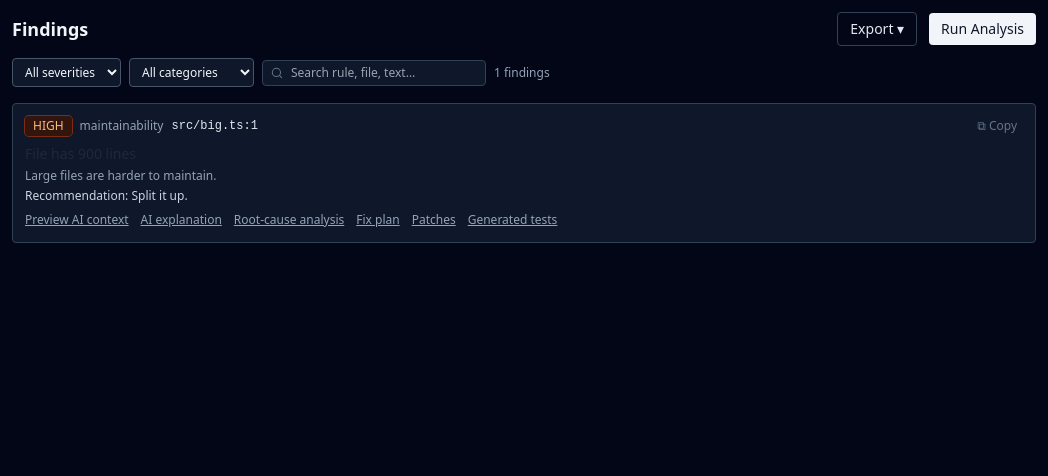
Test: FindingsPage › shows raw response as a fallback when evidence/inference weren't parsed
Check: the text "src/big.ts:1" is shown, box [172,118,258,134]
Click the button "Root-cause analysis".
click(289, 220)  # box [234,212,344,228]
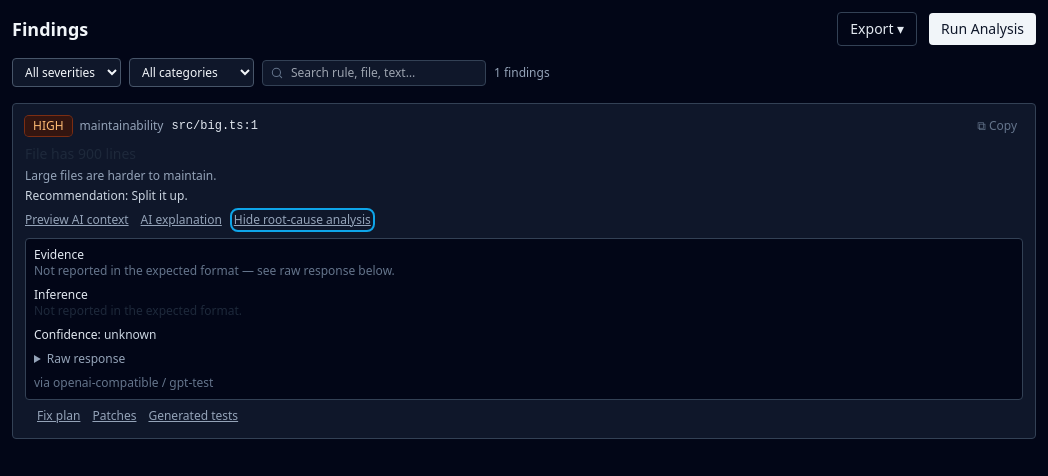
Check: the text "Not reported in the expected format — see raw response below." is shown, box [34,262,395,279]
Click the heading "Raw response".
click(86, 358)  # box [47,350,125,367]
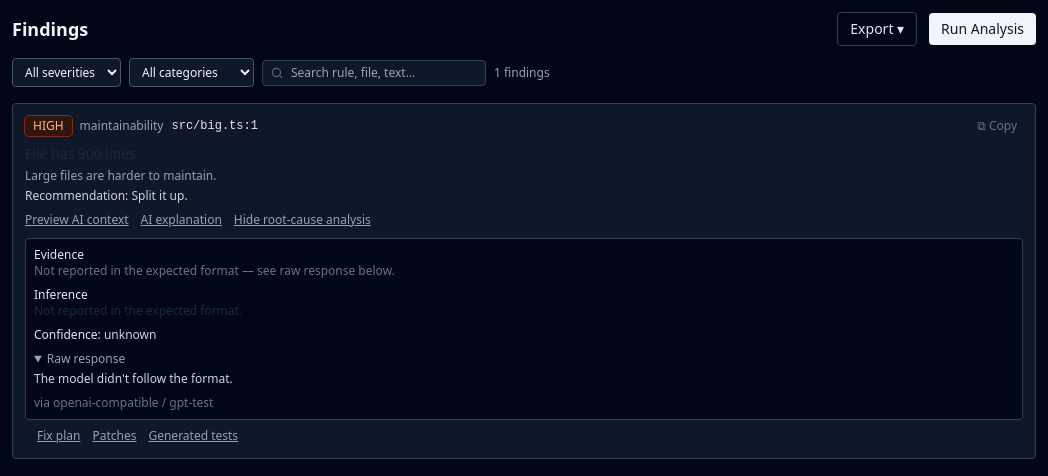
Check: the text "The model didn't follow the format." is shown, box [34,370,233,387]
